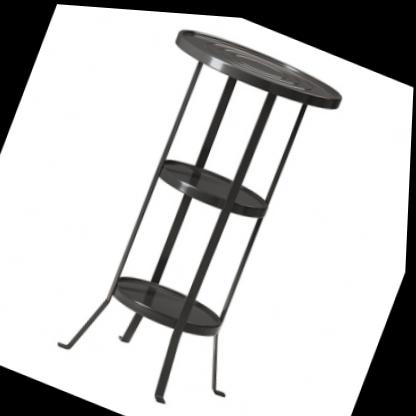Table: (44, 3, 355, 416)
